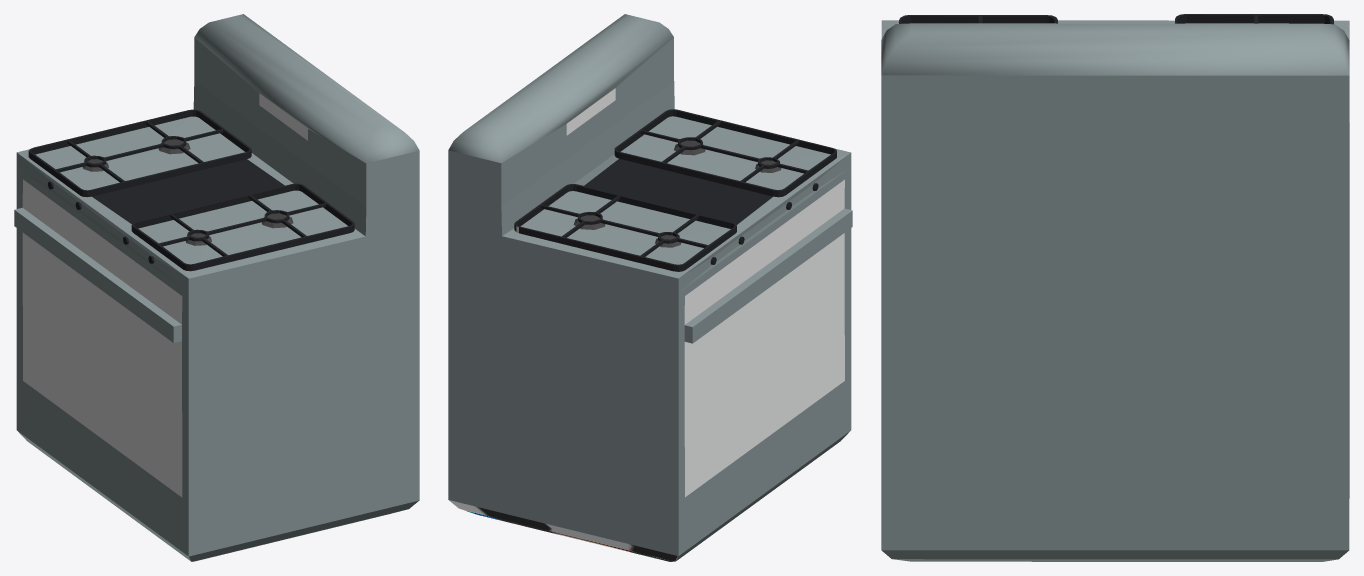
The model's file is Estufa.fbx.
3 views of the same model, side by side, from view 1: azimuth 30°, elevation 25°; view 2: azimuth 150°, elevation 25°; view 3: azimuth 270°, elevation 25° (orthographic). The views are drawn at different scales.
Parts seen in each view (by area): view 1: Cube; view 2: Cube; view 3: Cube.
Part boxes in pixels (x1=…): Cube: x1=14, y1=14, x2=419, y2=561; Cube: x1=448, y1=14, x2=852, y2=561; Cube: x1=881, y1=14, x2=1349, y2=561.
Size of the model in its own units: 0.591 by 0.9184 by 0.7385.
